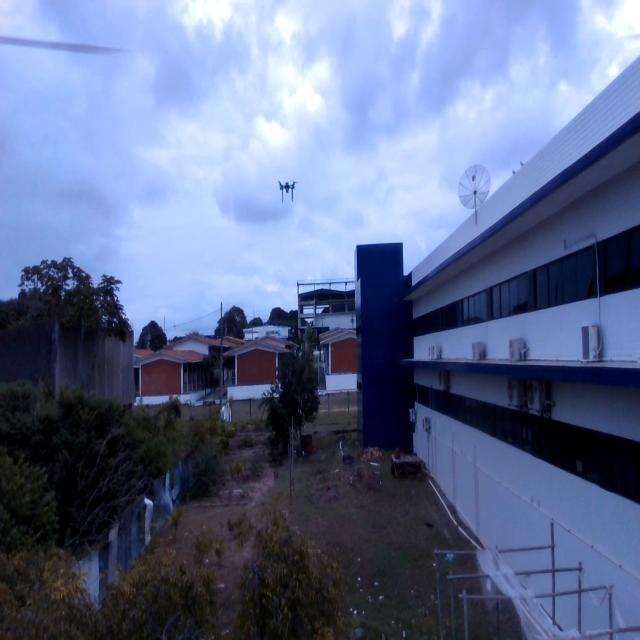-uav-: (271, 164, 303, 218)
